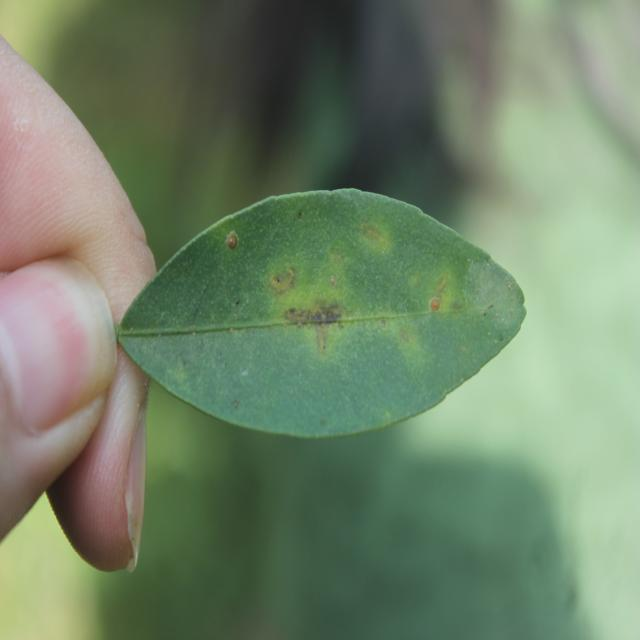canker: (209, 228, 464, 380)
